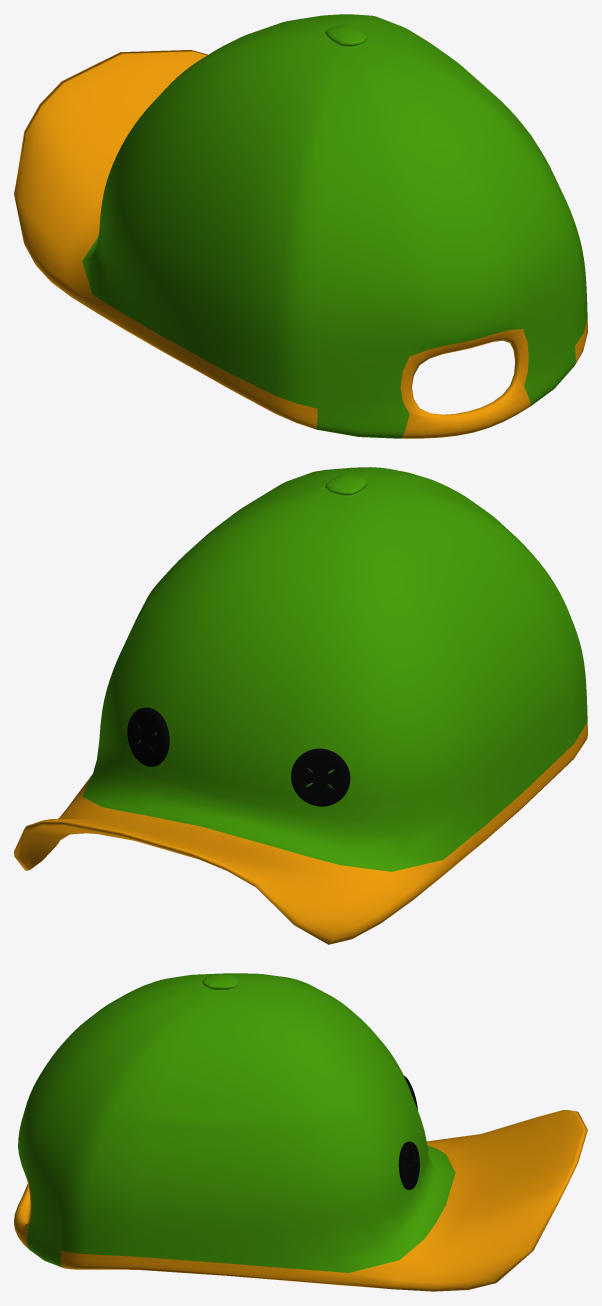
The model's file is hat3.fbx.
3 views of the same model, one above another, from view 1: azimuth 30°, elevation 25°; view 2: azimuth 150°, elevation 25°; view 3: azimuth 270°, elevation 25° (orthographic). The views are drawn at different scales.
Visible parts, largest first — view 1: Hat002; view 2: Hat002; view 3: Hat002.
Boxes of the visible parts, box(x1,y1,x2,y2) form: Hat002: box(14, 14, 587, 438); Hat002: box(14, 467, 587, 944); Hat002: box(14, 973, 587, 1291).
Bounding box in the file's own units: 2.18 × 1.79 × 3.69.
